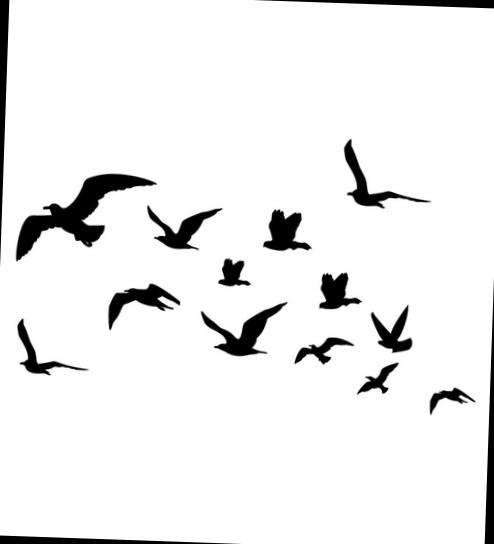bird: (316, 112, 439, 230), (410, 369, 476, 429)
